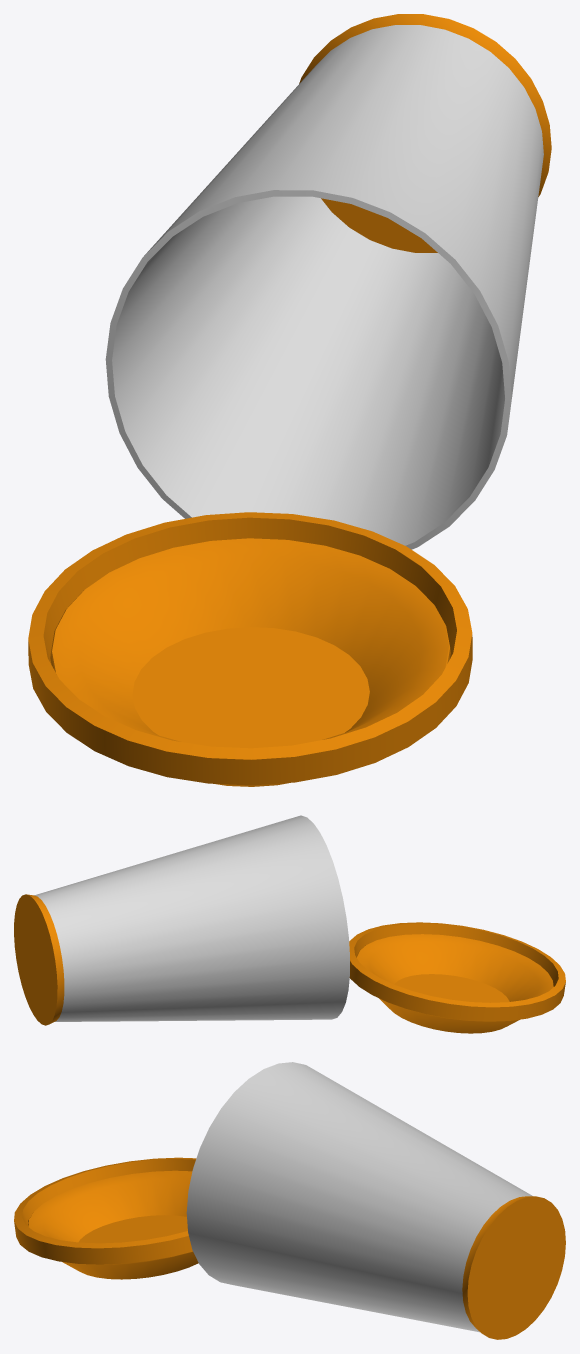
The model's file is Cup.glb.
3 views of the same model, one above another, from view 1: azimuth 30°, elevation 25°; view 2: azimuth 150°, elevation 25°; view 3: azimuth 270°, elevation 25° (orthographic). The views are drawn at different scales.
Parts seen in each view (by area): view 1: Cylinder.001; view 2: Cylinder.001; view 3: Cylinder.001.
Boxes of the visible parts, x1,y1,x2,y2 form: Cylinder.001: (28, 14, 551, 786); Cylinder.001: (14, 815, 565, 1033); Cylinder.001: (14, 1062, 565, 1339).
Size of what is drawn, in the model's own units: 0.4827 by 0.2501 by 0.521.
